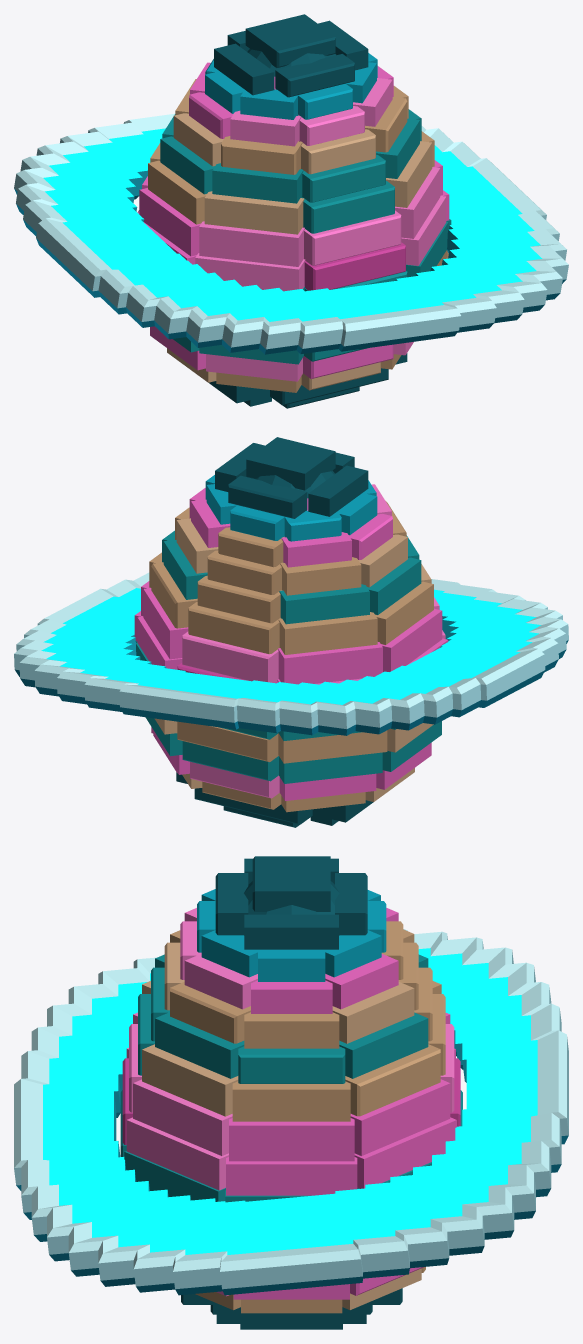
Rendered from Cyan Orbit Egg.fbx.
The picture shows the model from 3 angles, top to bottom: view 1: azimuth 30°, elevation 25°; view 2: azimuth 150°, elevation 25°; view 3: azimuth 270°, elevation 25°; orthographic projection. The views are drawn at different scales.
Parts seen in each view (by area): view 1: Stepped cyan orbital ring, Tier 09 | tile 8, Tier 09 | tile 1, Tier 10 | tile 8, Solid petrol top cap, Tier 10 | tile 1, Tier 08 | tile 1, Tier 11 | tile 8, Tier 11 | tile 1, Tier 08 | tile 8, Tier 12 | tile 8, Tier 15 | tile 1 (+30 smaller); view 2: Stepped cyan orbital ring, Tier 09 | tile 6, Tier 10 | tile 6, Tier 09 | tile 5, Solid petrol top cap, Tier 10 | tile 5, Tier 11 | tile 6, Tier 06 | tile 6, Tier 11 | tile 5, Tier 12 | tile 6, Tier 15 | tile 3, Tier 06 | tile 5 (+33 smaller); view 3: Stepped cyan orbital ring, Tier 09 | tile 3, Tier 10 | tile 3, Tier 08 | tile 3, Solid petrol top cap, Tier 09 | tile 2, Tier 09 | tile 4, Tier 11 | tile 3, Tier 10 | tile 4, Tier 10 | tile 2, Tier 08 | tile 2, Tier 15 | tile 2 (+33 smaller).
Boxes of the visible parts, box(x1,y1,x2,y2) form: Stepped cyan orbital ring: box(14, 113, 568, 354); Tier 09 | tile 8: box(199, 221, 304, 266); Tier 09 | tile 1: box(304, 210, 401, 265); Tier 10 | tile 8: box(204, 191, 304, 234); Solid petrol top cap: box(245, 14, 335, 67); Tier 10 | tile 1: box(301, 181, 394, 233); Tier 08 | tile 1: box(304, 242, 405, 290); Tier 11 | tile 8: box(212, 163, 303, 203); Tier 11 | tile 1: box(300, 154, 385, 202); Tier 08 | tile 8: box(195, 253, 305, 291); Tier 12 | tile 8: box(221, 136, 302, 174); Tier 15 | tile 1: box(275, 54, 354, 97); Stepped cyan orbital ring: box(14, 572, 568, 735); Tier 09 | tile 6: box(278, 642, 382, 684); Tier 10 | tile 6: box(278, 612, 377, 654); Tier 09 | tile 5: box(182, 631, 278, 682); Solid petrol top cap: box(246, 437, 335, 490); Tier 10 | tile 5: box(188, 602, 281, 654); Tier 11 | tile 6: box(279, 584, 369, 624); Tier 06 | tile 6: box(278, 730, 387, 763); Tier 11 | tile 5: box(197, 575, 282, 623); Tier 12 | tile 6: box(280, 557, 361, 595); Tier 15 | tile 3: box(228, 475, 307, 518); Tier 06 | tile 5: box(177, 721, 278, 762); Stepped cyan orbital ring: box(14, 929, 568, 1295); Tier 09 | tile 3: box(229, 1118, 354, 1161); Tier 10 | tile 3: box(232, 1081, 350, 1121); Tier 08 | tile 3: box(226, 1157, 357, 1195); Solid petrol top cap: box(252, 856, 330, 911); Tier 09 | tile 2: box(133, 1079, 232, 1155); Tier 09 | tile 4: box(350, 1079, 450, 1155); Tier 11 | tile 3: box(238, 1046, 345, 1083); Tier 10 | tile 4: box(345, 1044, 440, 1116); Tier 10 | tile 2: box(142, 1044, 238, 1116); Tier 08 | tile 2: box(126, 1117, 228, 1190); Tier 15 | tile 2: box(244, 914, 338, 949).
Bounding box in the file's own units: 369 × 266 × 320.
